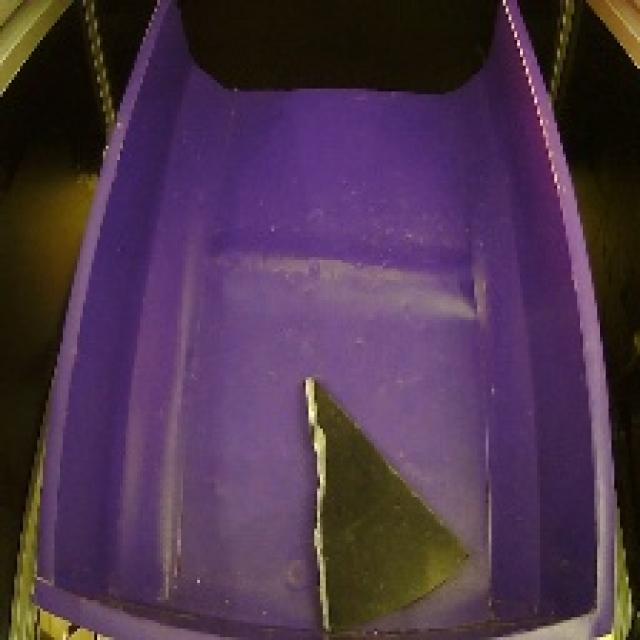china: (282, 367, 484, 640)
